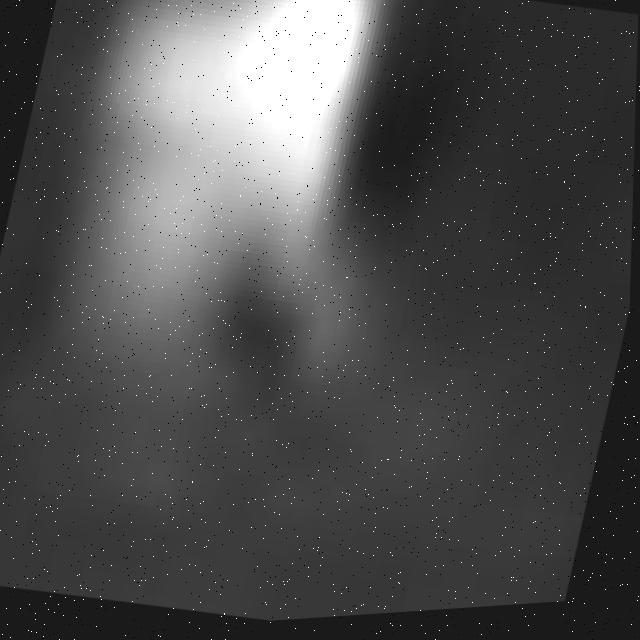person: (1, 1, 442, 546)
